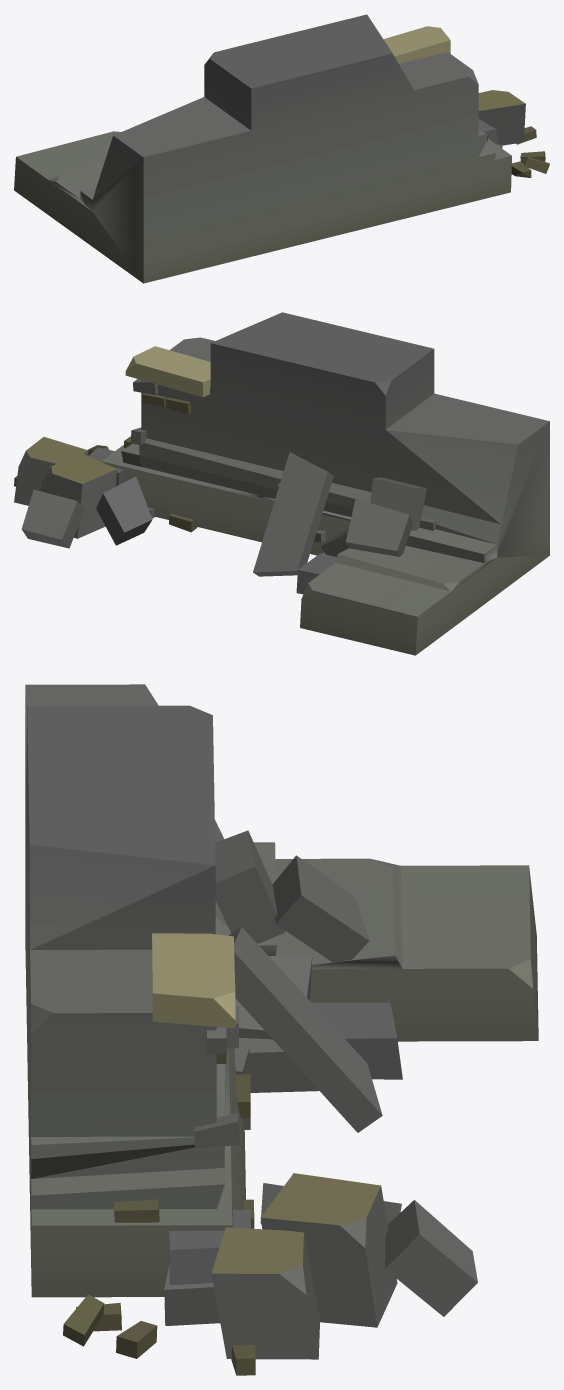
The model's file is ea_arch_wall04_ruin_01b_pre_5_lev1.glb.
The picture shows the model from 3 angles, top to bottom: view 1: azimuth 30°, elevation 25°; view 2: azimuth 150°, elevation 25°; view 3: azimuth 270°, elevation 25°; orthographic projection. The views are drawn at different scales.
Visible parts, largest first — view 1: ea_arch_wall04_ruin_01b_pre_5_lev1; view 2: ea_arch_wall04_ruin_01b_pre_5_lev1; view 3: ea_arch_wall04_ruin_01b_pre_5_lev1.
Boxes of the visible parts, left/top/right/bottom form: ea_arch_wall04_ruin_01b_pre_5_lev1: left=14, top=14, right=549, bottom=283; ea_arch_wall04_ruin_01b_pre_5_lev1: left=14, top=312, right=549, bottom=655; ea_arch_wall04_ruin_01b_pre_5_lev1: left=25, top=684, right=538, bottom=1375.
Size of the model in its own units: 3.24 by 1.21 by 1.61.
Materials: 1 (1 with a texture image).
